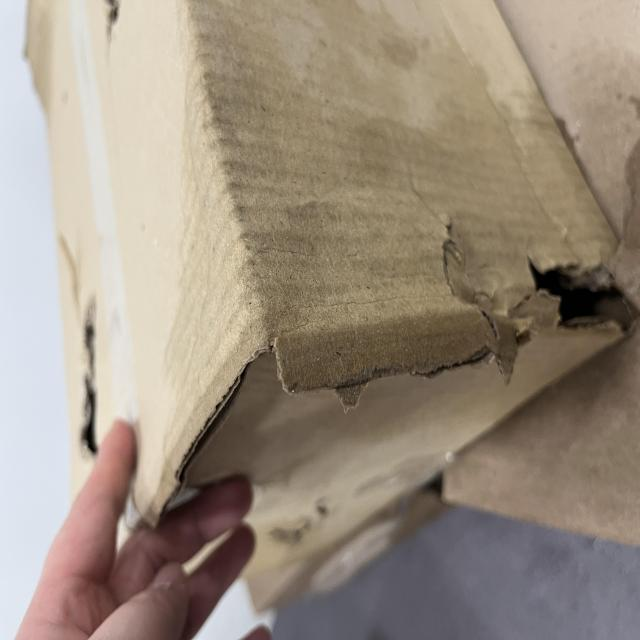wet: (130, 216, 480, 640)
